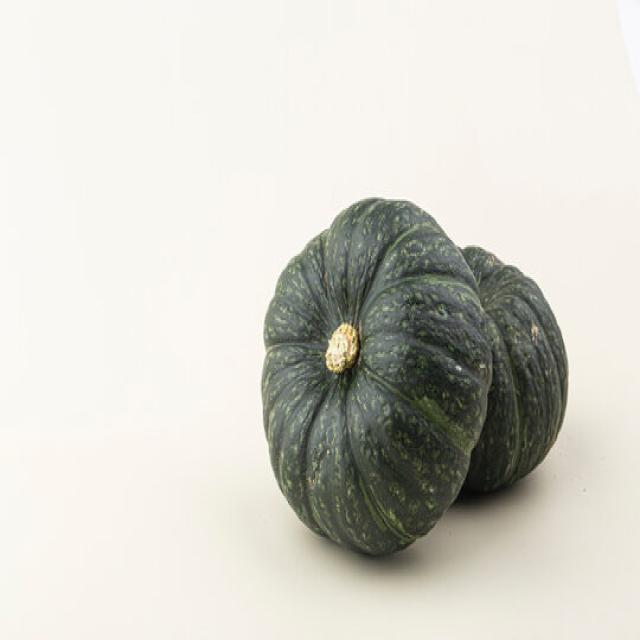Pumpkin: (260, 194, 493, 556), (456, 242, 569, 494)
